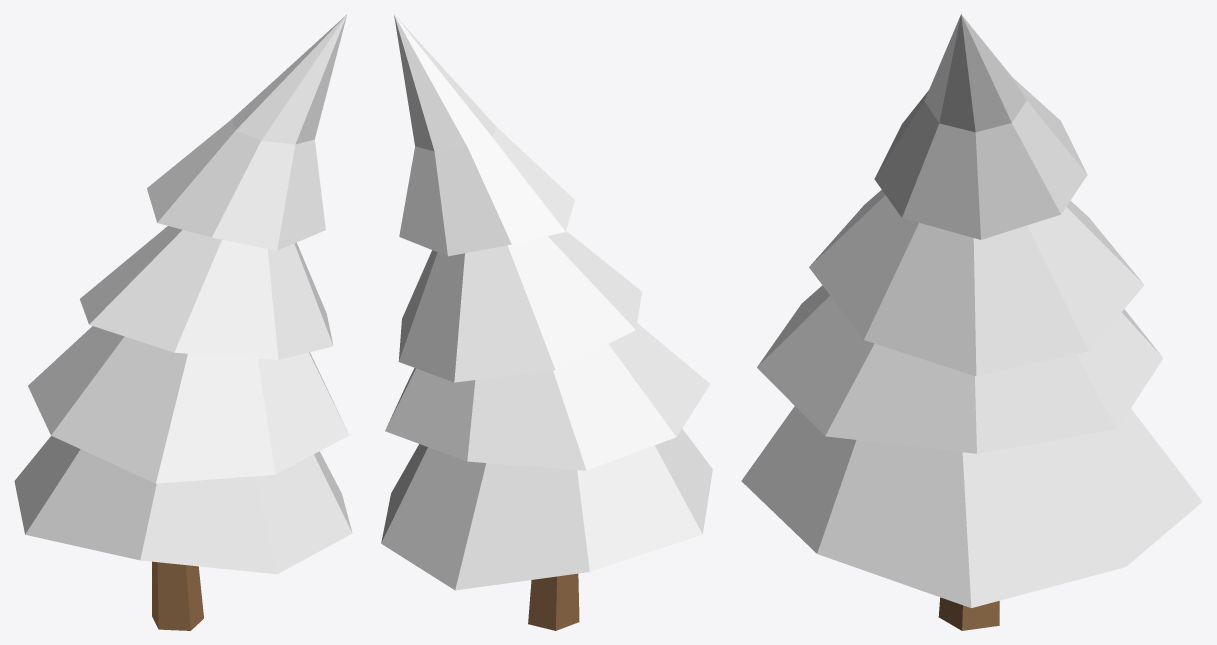
File: Fir_Tree_OneSided_m_Snow_07_LOD.fbx
3 renders of one model, left to right at view 1: azimuth 30°, elevation 25°; view 2: azimuth 150°, elevation 25°; view 3: azimuth 270°, elevation 25°, orthographic. The views are drawn at different scales.
Visible parts, largest first — view 1: Fir_Tree_OneSided_m_Snow_07_LOD0; view 2: Fir_Tree_OneSided_m_Snow_07_LOD0; view 3: Fir_Tree_OneSided_m_Snow_07_LOD0.
Part boxes in pixels (x1,y1,x2,y2): Fir_Tree_OneSided_m_Snow_07_LOD0: (14, 14, 352, 630); Fir_Tree_OneSided_m_Snow_07_LOD0: (381, 14, 712, 630); Fir_Tree_OneSided_m_Snow_07_LOD0: (741, 14, 1202, 630).
Size of what is drawn, in the model's own units: 409 by 701 by 417.
